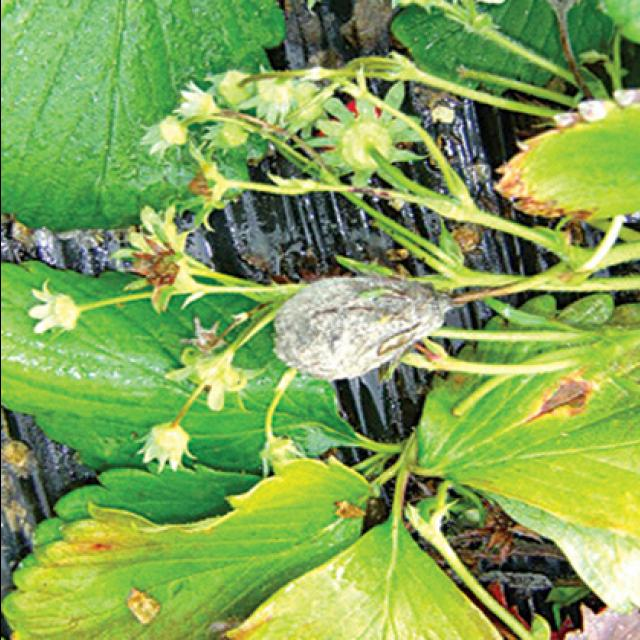Gray Mold: (271, 275, 451, 380)
